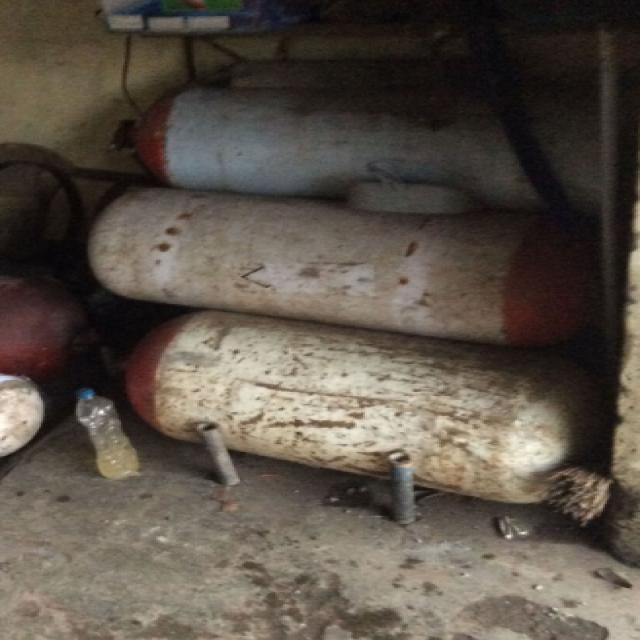cylinder: (123, 88, 601, 211)
